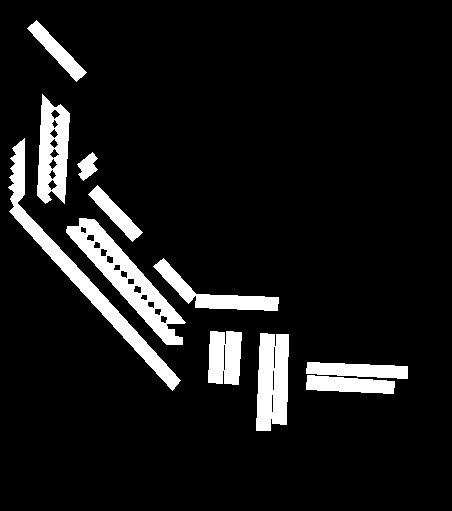parkingspot: (9, 203, 180, 390), (66, 226, 182, 344), (79, 218, 185, 323), (27, 20, 86, 81), (88, 185, 142, 241), (37, 94, 55, 203), (153, 258, 196, 303), (51, 104, 69, 203), (256, 333, 274, 430), (306, 362, 407, 378), (306, 375, 394, 393), (272, 334, 288, 424), (195, 294, 278, 310), (8, 138, 24, 206), (224, 331, 241, 384), (208, 331, 224, 383), (77, 152, 97, 180)
